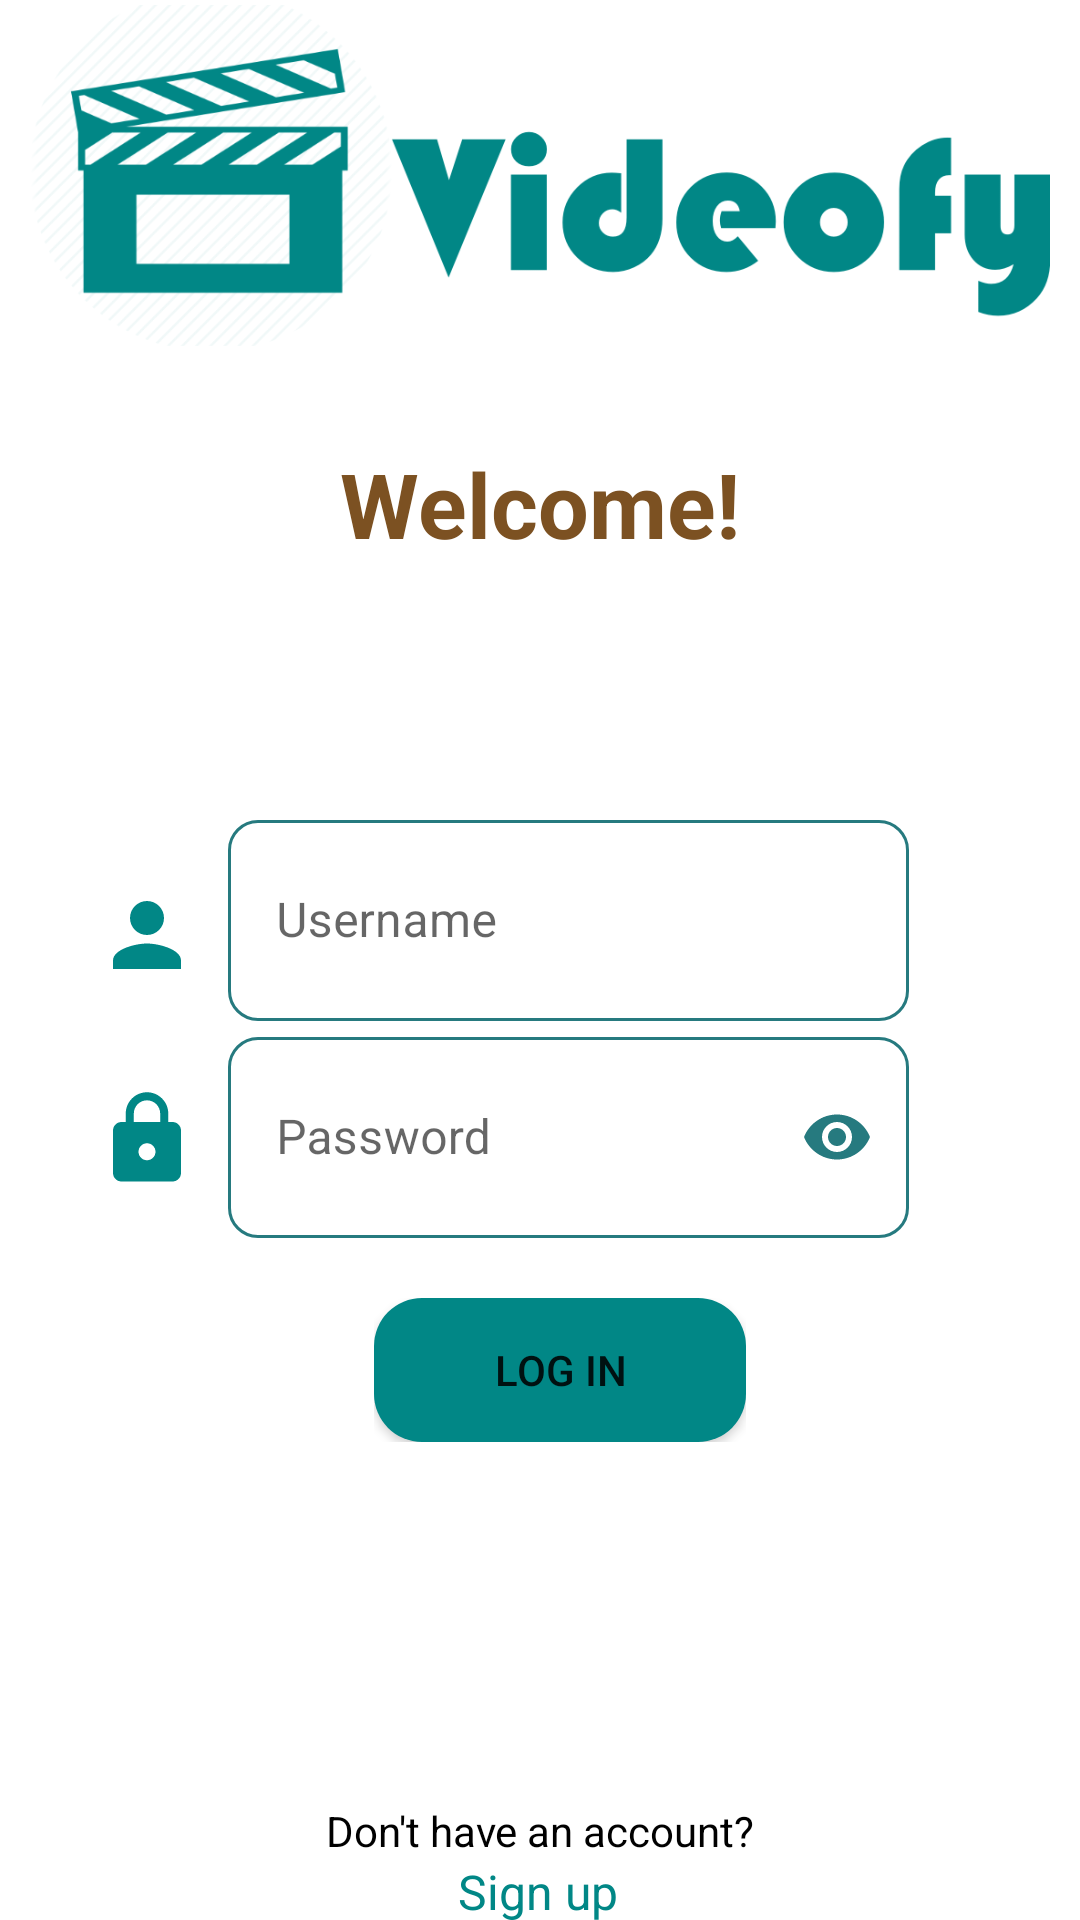

Where icons sit on this 1080×1920 app screen, as detection(x1, y1, x2, y2):
lock: detection(113, 1092, 181, 1182)
person: detection(113, 901, 181, 969)
